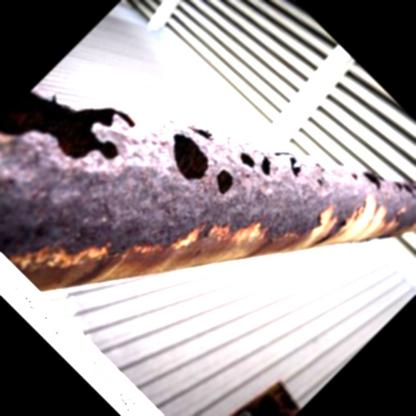burst: (165, 120, 283, 204), (2, 104, 142, 167)
